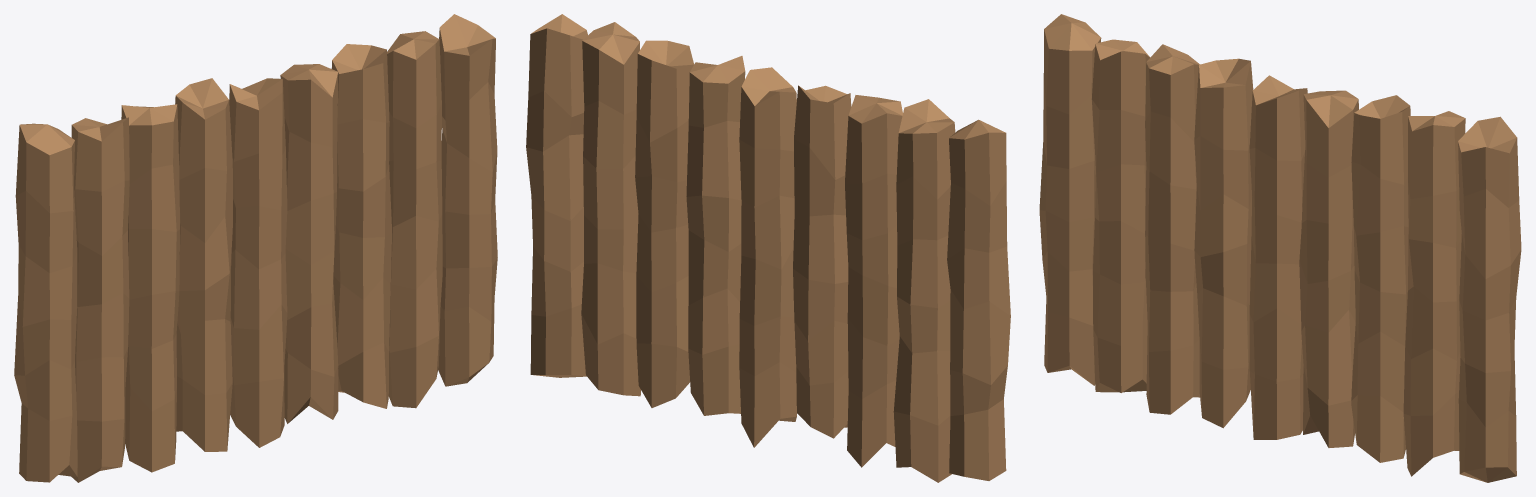
File: LargeWall.fbx
3 renders of one model, left to right at view 1: azimuth 30°, elevation 25°; view 2: azimuth 150°, elevation 25°; view 3: azimuth 330°, elevation 25°, orthographic.
Parts seen in each view (by area): view 1: LargeWall; view 2: LargeWall; view 3: LargeWall.
Boxes of the visible parts, bbox=[...] form: LargeWall: bbox=[14, 14, 497, 482]; LargeWall: bbox=[526, 14, 1010, 482]; LargeWall: bbox=[1039, 14, 1521, 482].
Bounding box in the file's own units: 1160 × 861 × 134.
